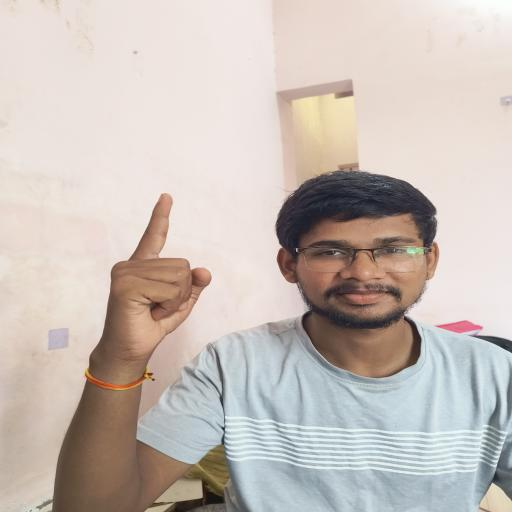What: (66, 178, 240, 387)
